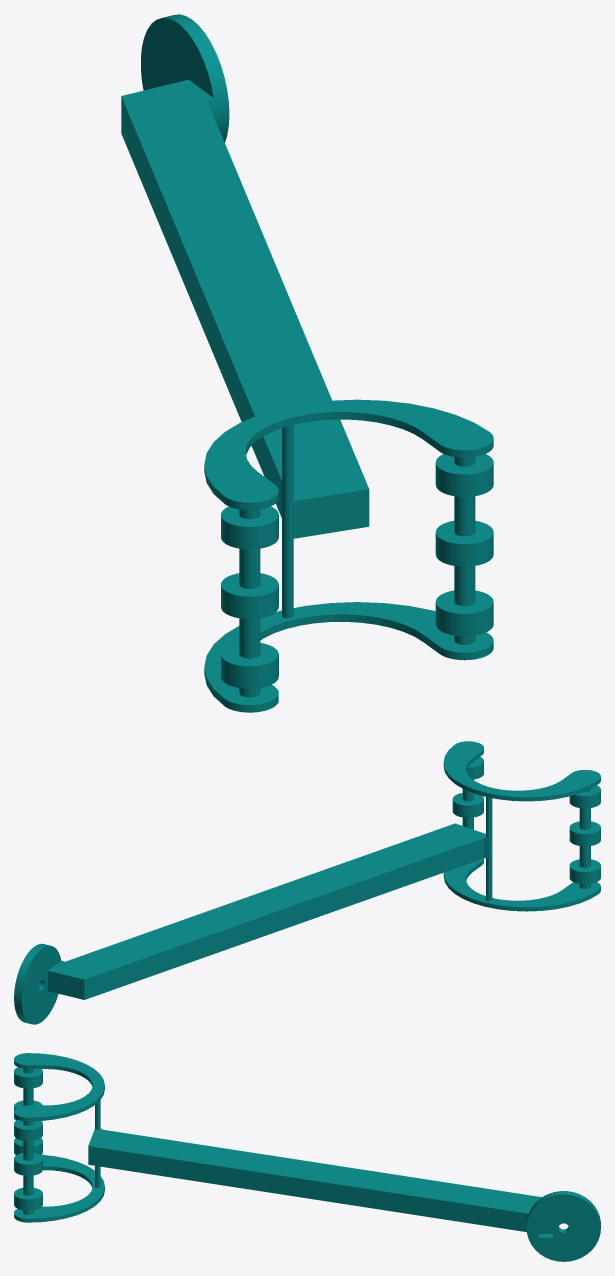
3 renders of one model, top to bottom at view 1: azimuth 30°, elevation 25°; view 2: azimuth 150°, elevation 25°; view 3: azimuth 270°, elevation 25°, orthographic. The views are drawn at different scales.
Parts seen in each view (by area): view 1: SOLID (×2); view 2: SOLID (×2); view 3: SOLID (×2).
Boxes of the visible parts, box(x1,y1,x2,y2) form: SOLID (×2): box(121, 14, 493, 712); SOLID (×2): box(14, 741, 600, 1024); SOLID (×2): box(14, 1053, 600, 1261).
Bounding box in the file's own units: 0.351 × 0.14 × 0.7098.
